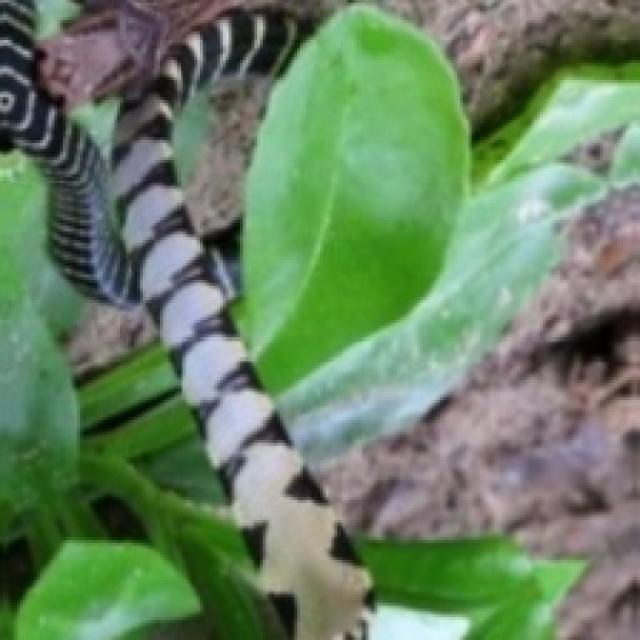king cobra: (0, 0, 366, 637)
